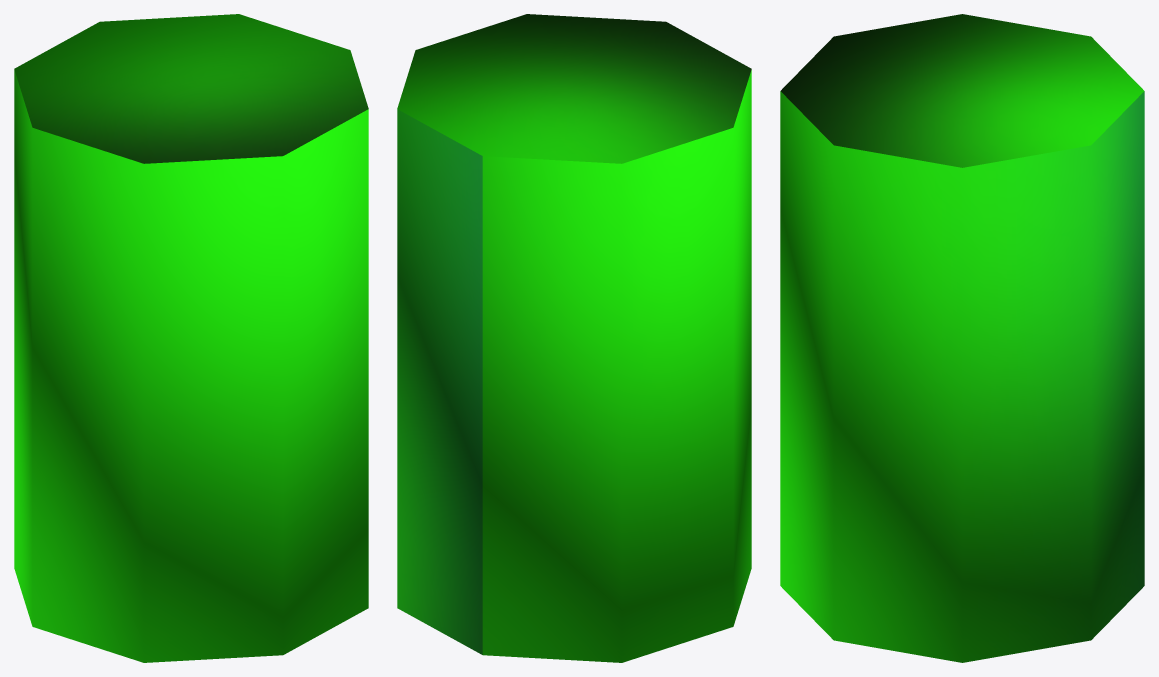
The model's file is figure_cylinder.obj.
3 renders of one model, left to right at view 1: azimuth 30°, elevation 25°; view 2: azimuth 150°, elevation 25°; view 3: azimuth 270°, elevation 25°, orthographic.
Parts seen in each view (by area): view 1: Cylinder; view 2: Cylinder; view 3: Cylinder.
Part boxes in pixels (x1=…): Cylinder: x1=14, y1=14, x2=368, y2=662; Cylinder: x1=397, y1=14, x2=751, y2=662; Cylinder: x1=780, y1=14, x2=1144, y2=662.
Bounding box in the file's own units: 0.2 × 0.3 × 0.2.
